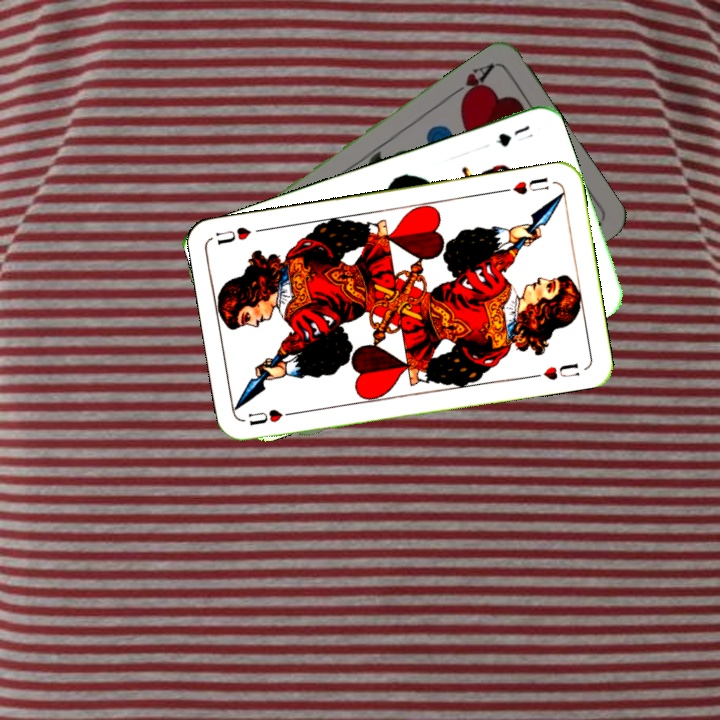GU: (492, 121, 532, 150)
HA: (446, 59, 498, 105)
HU: (498, 173, 552, 197), (244, 405, 300, 428)
